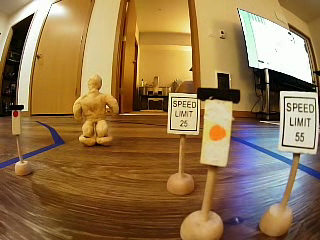Red traffic light: (4, 98, 30, 137)
person: (67, 70, 123, 146)
speed limit 25: (163, 85, 202, 139)
speed limit 55: (276, 80, 320, 157)
yellow traffic light: (207, 81, 243, 166)
